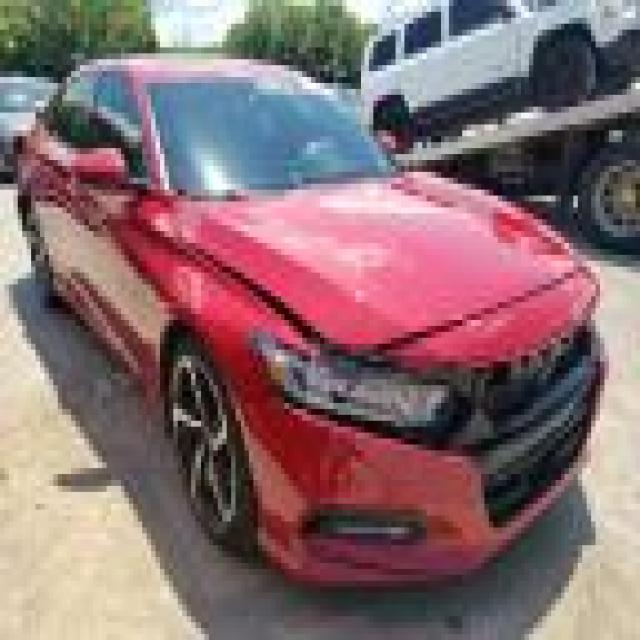minor: (168, 213, 386, 402)
